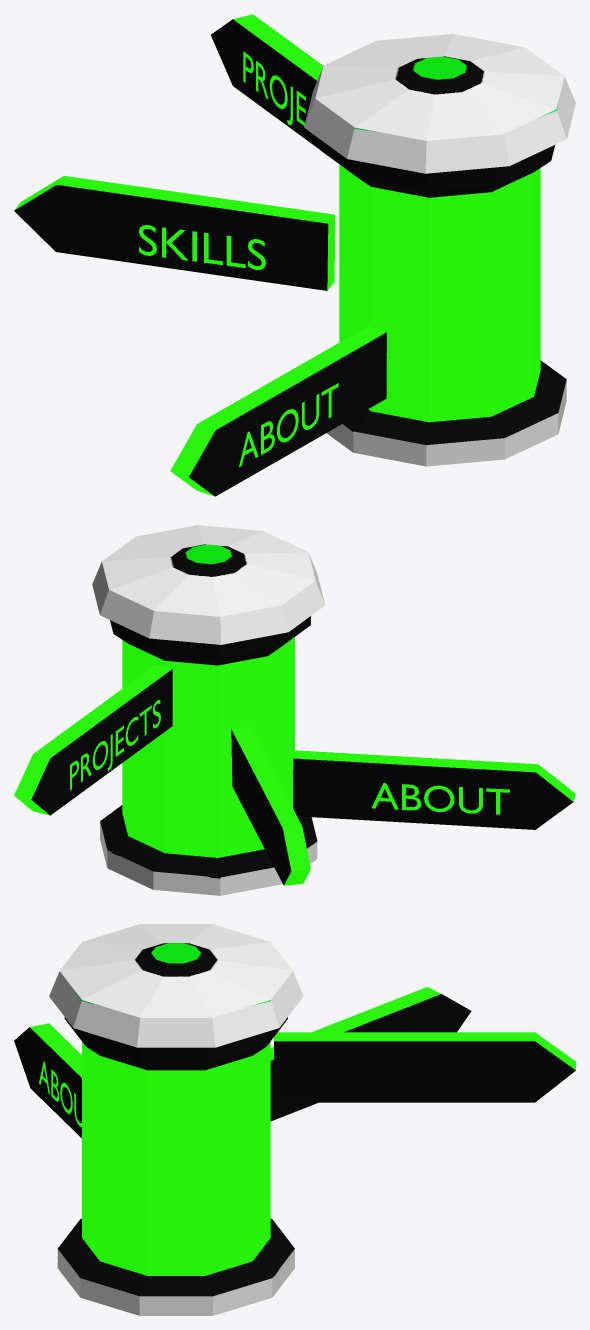
File: signboard.glb
3 views of the same model, one above another, from view 1: azimuth 30°, elevation 25°; view 2: azimuth 150°, elevation 25°; view 3: azimuth 270°, elevation 25° (orthographic). The views are drawn at different scales.
Visible parts, largest first — view 1: Cylinder.001, Text.001, Text.002, Text; view 2: Cylinder.001, Text.003, Text; view 3: Cylinder.001, Text.002.
Part boxes in pixels (x1,y1,x2,y2): Cylinder.001: (14, 14, 575, 496); Text.001: (139, 225, 265, 269); Text.002: (239, 383, 338, 466); Text: (243, 51, 305, 125); Cylinder.001: (14, 525, 575, 895); Text.003: (371, 783, 509, 814); Text: (70, 700, 160, 790); Cylinder.001: (14, 924, 575, 1315); Text.002: (39, 1061, 81, 1126).
Size of the model in its own units: 14.16 by 10.48 by 16.27.
Materials: 3 (1 with a texture image).
